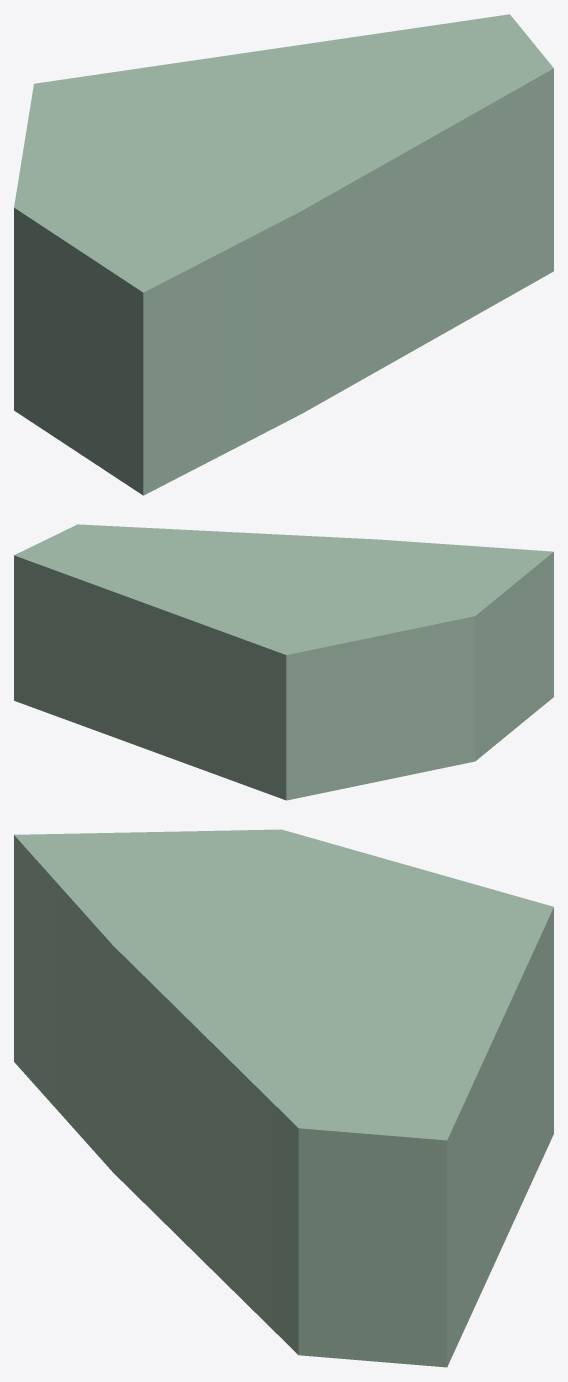
The model's file is yunlin.glb.
3 renders of one model, top to bottom at view 1: azimuth 30°, elevation 25°; view 2: azimuth 150°, elevation 25°; view 3: azimuth 270°, elevation 25°, orthographic. The views are drawn at different scales.
Visible parts, largest first — view 1: map_geo Yunlin_geo; view 2: map_geo Yunlin_geo; view 3: map_geo Yunlin_geo.
Part boxes in pixels (bbox=[...]): map_geo Yunlin_geo: bbox=[14, 14, 553, 495]; map_geo Yunlin_geo: bbox=[14, 524, 553, 800]; map_geo Yunlin_geo: bbox=[14, 829, 553, 1367].
Bounding box in the file's own units: 0.8171 × 0.2781 × 0.5995.
1 material, 1 textured.
